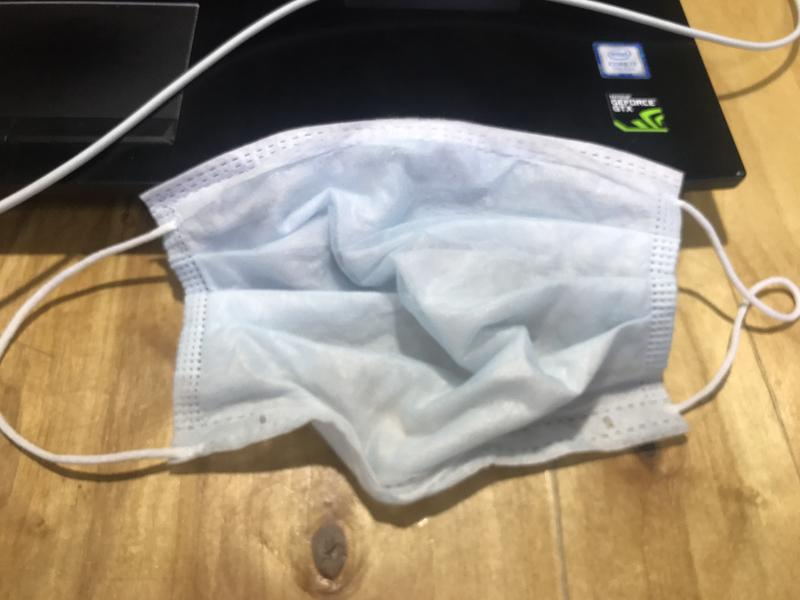medical_mask: (1, 116, 800, 503)
